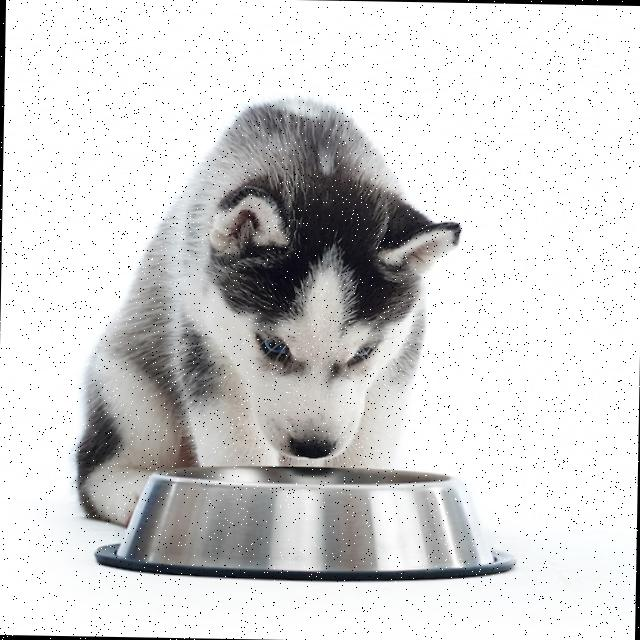Dog: (73, 91, 463, 534)
